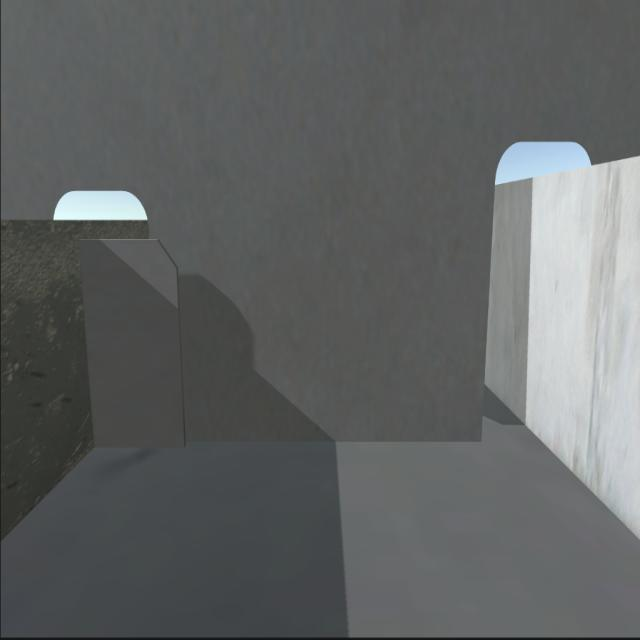fillet_yong_jeop_jang: (90, 438, 482, 448)
longi_yong_jeop_jang: (73, 237, 101, 445)
plate_CP03: (76, 236, 190, 450)
